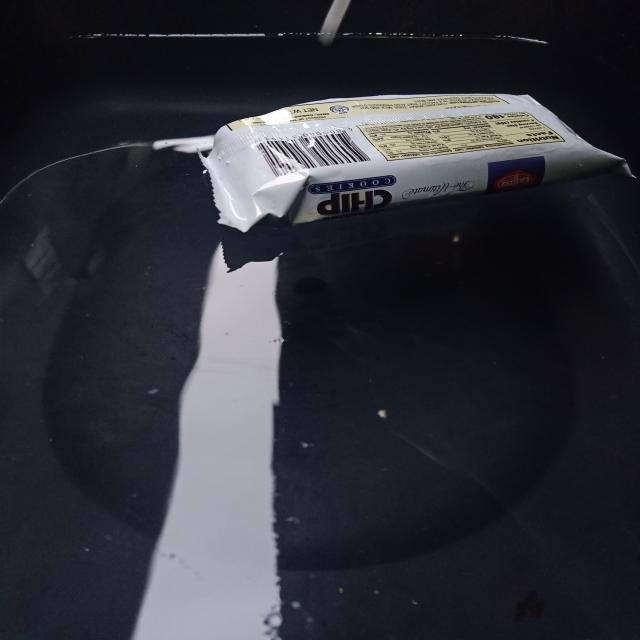Plastic Wrapper: (179, 75, 640, 250)
